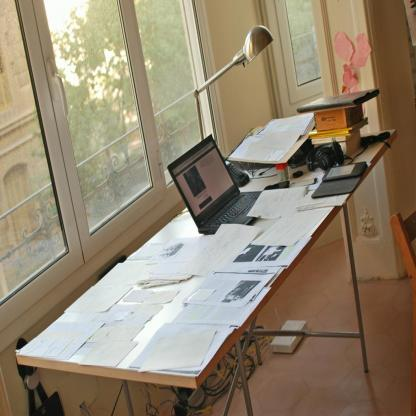board: (166, 133, 263, 236)
